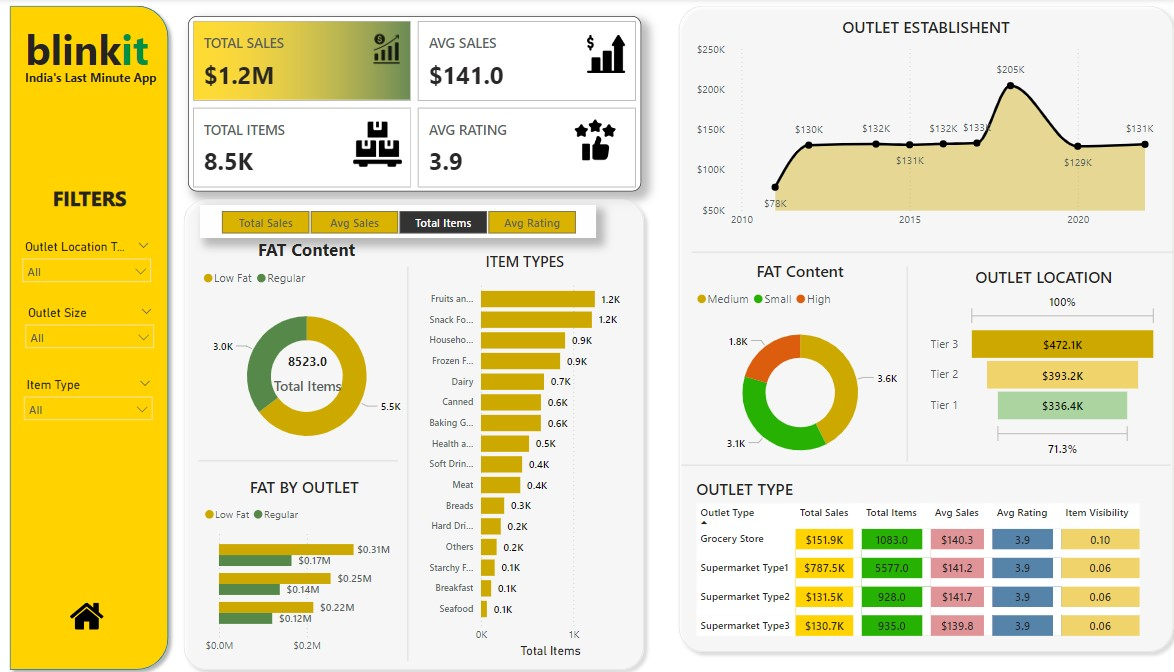

The dashboard page shown, as its layout file describes it:
{"tool":"powerbi","page":{"name":"Page 1","canvas":[1400,800],"ordinal":0},"visuals":[{"type":"shape","box":[10.6,0,205,800.6],"z":0},{"type":"textbox","box":[24.8,20.7,171.6,78.5],"z":1000},{"type":"textbox","box":[16.5,78.5,198.4,39.3],"z":2000},{"type":"cardVisual","fields":{"Data":["BlinkIT Grocery Data.Total Sales","BlinkIT Grocery Data.Avg Sales","BlinkIT Grocery Data.Total Items","BlinkIT Grocery Data.Avg Rating"]},"box":[241.8,20.7,494,206.7],"z":3000},{"type":"shape","box":[215.6,228,560.2,572.6],"z":4000},{"type":"donutChart","title":"FAT Content","fields":{"Y":["BlinkIT Grocery Data.Total Sales"],"Category":["BlinkIT Grocery Data.Item Fat Content"]},"box":[242.1,282.8,254.5,268.6],"z":5000},{"type":"slicer","fields":{"Values":["Matrics.Matrics"]},"box":[243.9,243.9,466.6,38.9],"z":6000},{"type":"card","fields":{"Values":["BlinkIT Grocery Data.Total Sales"]},"box":[314.6,399.4,111.3,83.1],"z":7000},{"type":"clusteredBarChart","title":"FAT BY OUTLET","fields":{"Category":["BlinkIT Grocery Data.Outlet Location Type"],"Series":["BlinkIT Grocery Data.Item Fat Content"],"Y":["BlinkIT Grocery Data.Total Sales"]},"box":[243.9,563.8,245.7,217.4],"z":8000},{"type":"shape","box":[242.1,512.5,235.1,65.4],"z":9000},{"type":"shape","box":[415.3,316.4,146.7,464.8],"z":10000},{"type":"barChart","title":"ITEM TYPES","fields":{"Y":["BlinkIT Grocery Data.Total Sales"],"Category":["BlinkIT Grocery Data.Item Type"]},"box":[496.6,298.7,259.8,482.5],"z":11000},{"type":"shape","box":[798.8,0,600.9,779.4],"z":12000},{"type":"lineChart","title":"OUTLET ESTABLISHENT","fields":{"Y":["BlinkIT Grocery Data.Total Sales"],"Category":["BlinkIT Grocery Data.Outlet Establishment Year"]},"box":[823.6,21.2,551.4,258],"z":13000},{"type":"shape","box":[823.6,266.9,576.2,65.4],"z":14000},{"type":"slicer","title":"OUTLET SIZE","fields":{"Values":["BlinkIT Grocery Data.Outlet Location Type"]},"box":[24.7,279.2,171.4,60.1],"z":15000},{"type":"shape","box":[1003.9,316.4,146.7,229.8],"z":16000},{"type":"funnel","title":"OUTLET LOCATION","fields":{"Y":["BlinkIT Grocery Data.Total Sales"],"Category":["BlinkIT Grocery Data.Outlet Location Type"]},"box":[1099.3,316.4,277.5,229.8],"z":17000},{"type":"shape","box":[811.2,517.8,576.2,65.4],"z":18000},{"type":"pivotTable","title":"OUTLET TYPE","fields":{"Rows":["BlinkIT Grocery Data.Outlet Type"],"Values":["BlinkIT Grocery Data.Total Sales","BlinkIT Grocery Data.Total Items","BlinkIT Grocery Data.Avg Sales","BlinkIT Grocery Data.Avg Rating","Avg(BlinkIT Grocery Data.Item Visibility)"]},"box":[823.6,565.6,563.8,217.4],"z":19000},{"type":"slicer","title":"OUTLET SIZE","fields":{"Values":["BlinkIT Grocery Data.Outlet Size"]},"box":[28.3,357,171.4,60.1],"z":20000},{"type":"slicer","title":"OUTLET SIZE","fields":{"Values":["BlinkIT Grocery Data.Item Type"]},"box":[26.5,441.8,171.4,60.1],"z":21000},{"type":"textbox","box":[65.4,213.8,201.5,49.5],"z":22000},{"type":"donutChart","title":"FAT Content","fields":{"Y":["BlinkIT Grocery Data.Total Sales"],"Category":["BlinkIT Grocery Data.Outlet Size"]},"box":[823.6,309.3,254.5,256.3],"z":23000},{"type":"image","box":[60.1,703.4,100.7,49.5],"z":24000}]}

Visuals, with their boxes in screenshot pixels (x1, y1, x2, y2), scaled from the page's 1400x800 canvas onto the 1174x672 screenshot:
shape: <box>9,0,181,671</box>
textbox: <box>21,17,165,83</box>
textbox: <box>14,66,180,99</box>
cardVisual - BlinkIT Grocery Data.Total Sales x BlinkIT Grocery Data.Avg Sales: <box>203,17,617,191</box>
shape: <box>181,192,651,671</box>
"FAT Content" donutChart: <box>203,238,416,463</box>
slicer - Matrics.Matrics: <box>205,205,596,238</box>
card - BlinkIT Grocery Data.Total Sales: <box>264,335,357,405</box>
"FAT BY OUTLET" clusteredBarChart: <box>205,474,411,656</box>
shape: <box>203,430,400,485</box>
shape: <box>348,266,471,656</box>
"ITEM TYPES" barChart: <box>416,251,634,656</box>
shape: <box>670,0,1173,655</box>
"OUTLET ESTABLISHENT" lineChart: <box>691,18,1153,235</box>
shape: <box>691,224,1173,279</box>
"OUTLET SIZE" slicer: <box>21,235,164,285</box>
shape: <box>842,266,965,459</box>
"OUTLET LOCATION" funnel: <box>922,266,1155,459</box>
shape: <box>680,435,1163,490</box>
"OUTLET TYPE" pivotTable: <box>691,475,1163,658</box>
"OUTLET SIZE" slicer: <box>24,300,167,350</box>
"OUTLET SIZE" slicer: <box>22,371,166,422</box>
textbox: <box>55,180,224,221</box>
"FAT Content" donutChart: <box>691,260,904,475</box>
image: <box>50,591,135,632</box>
